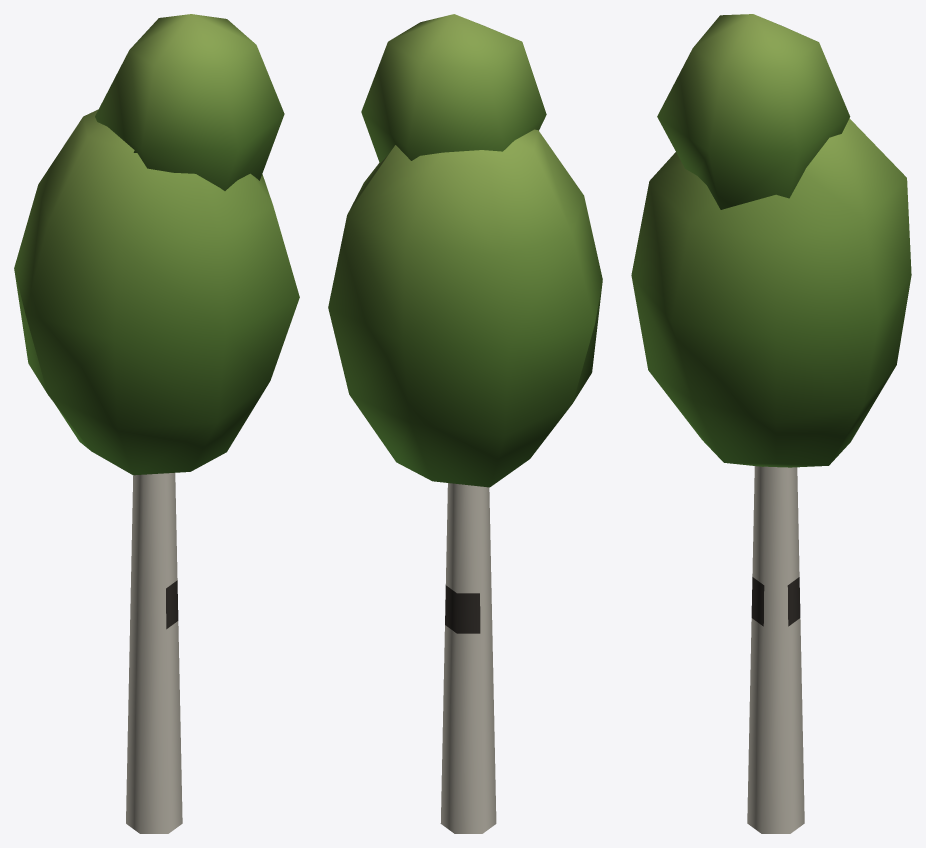
File: tree_leaf2.glb
The picture shows the model from 3 angles, left to right: view 1: azimuth 30°, elevation 25°; view 2: azimuth 150°, elevation 25°; view 3: azimuth 270°, elevation 25°; orthographic projection. The views are drawn at different scales.
Parts seen in each view (by area): view 1: tree_leaf2; view 2: tree_leaf2; view 3: tree_leaf2.
Part boxes in pixels (x1,y1,x2,y2): tree_leaf2: (14,14,299,833); tree_leaf2: (328,14,602,833); tree_leaf2: (631,14,911,833).
Size of the model in its own units: 0.3933 by 1.2 by 0.3705.
